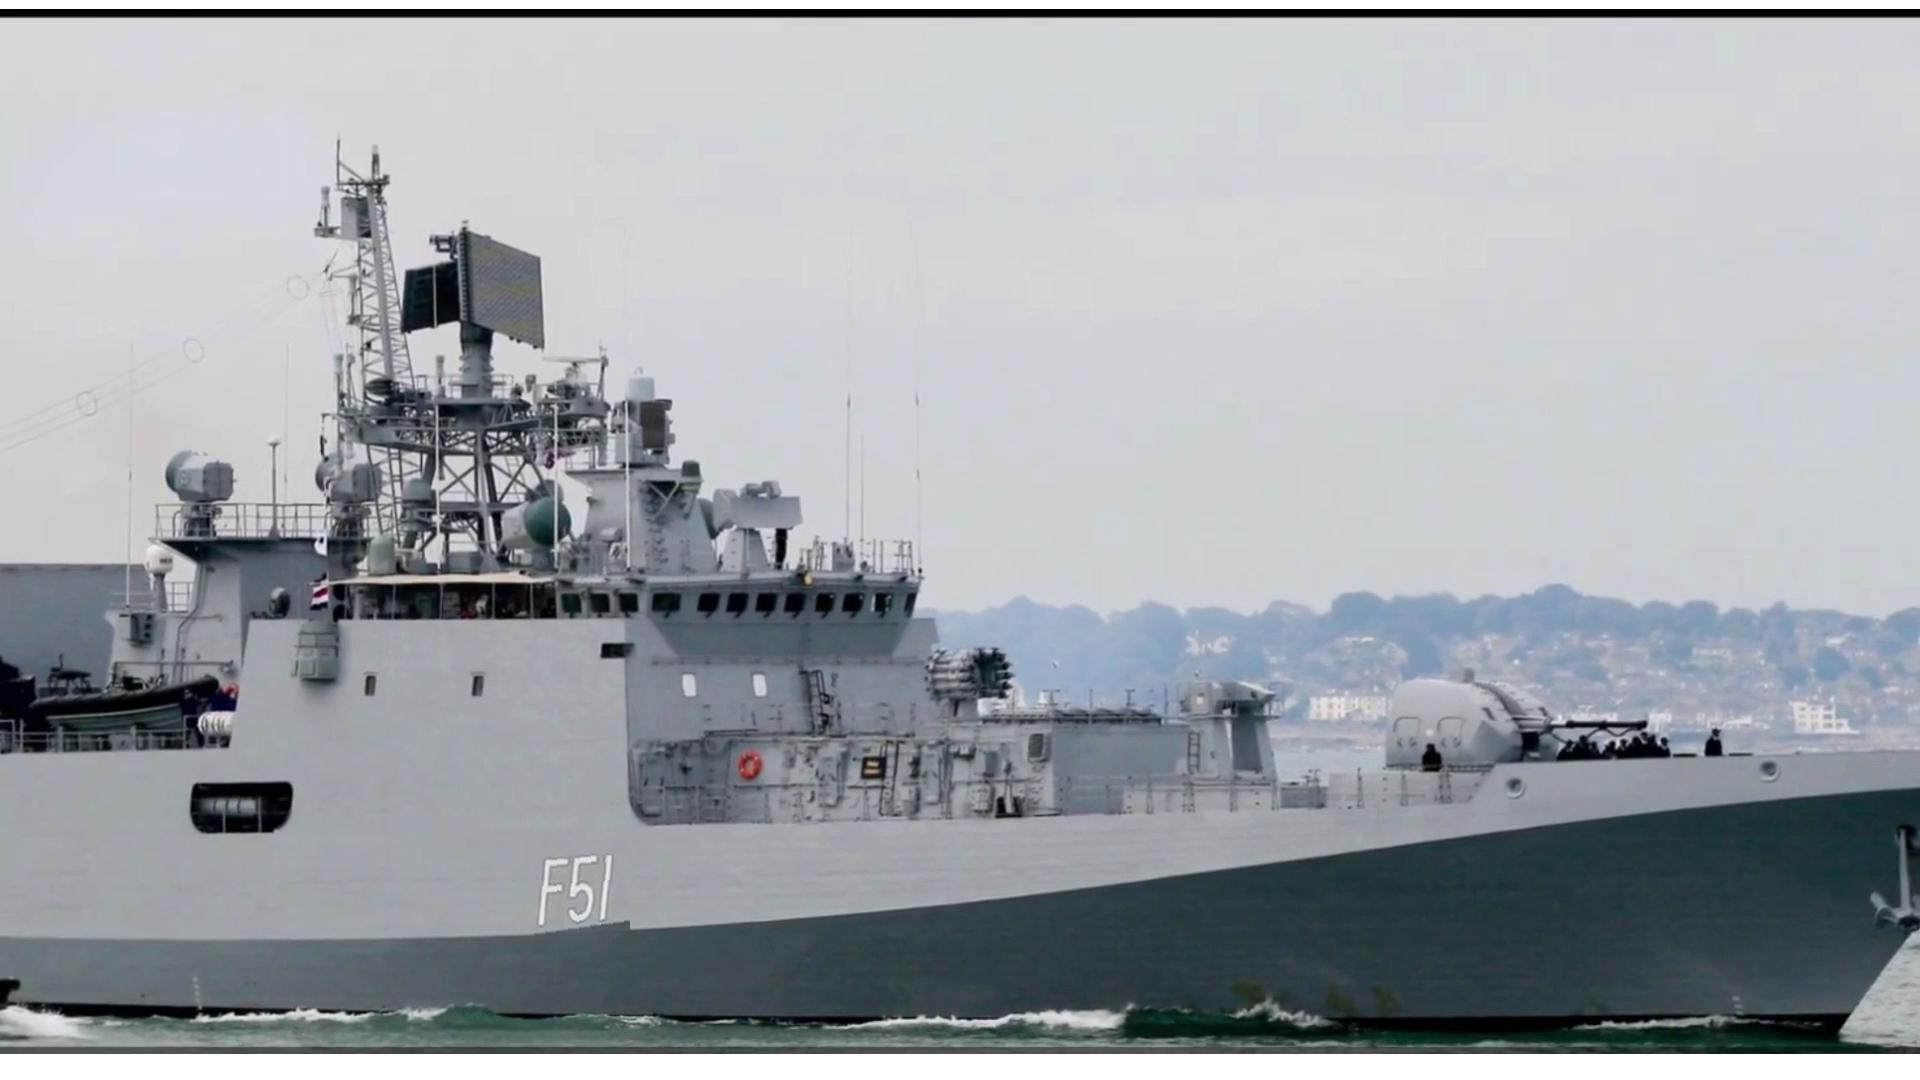OCR: (529, 853, 632, 942)
